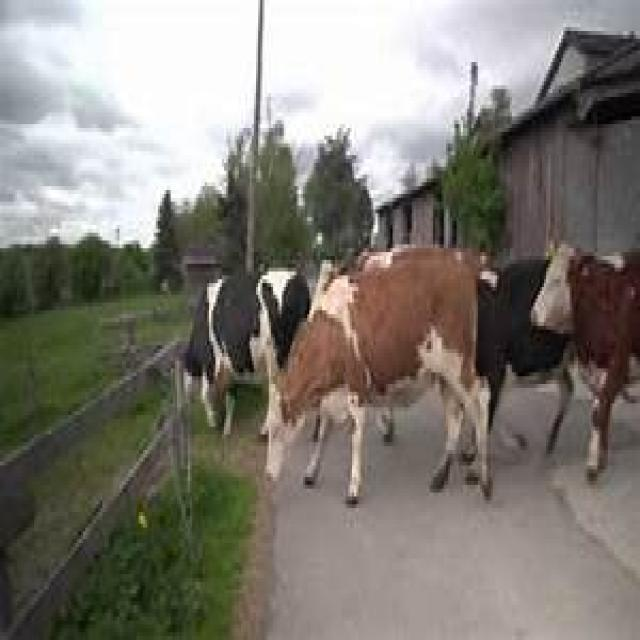cow: (267, 244, 495, 508), (531, 244, 640, 485), (181, 272, 314, 431)
